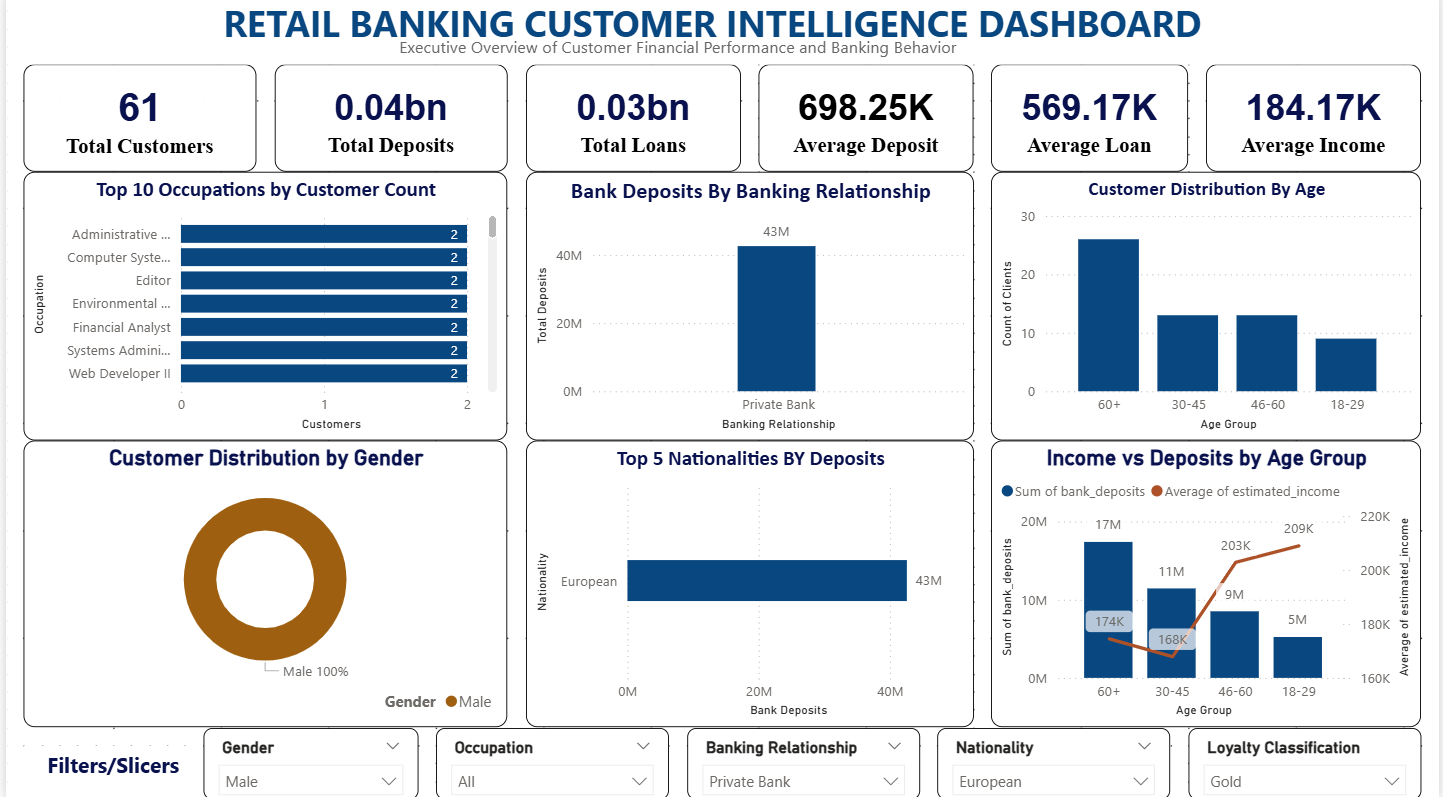

The page's visual inventory and layout, read from the dashboard file:
{"tool":"powerbi","page":{"name":"Executive Dashboard","canvas":[1280,720],"ordinal":0},"visuals":[{"type":"card","fields":{"Values":["clean_banking_data.Total Customers"]},"box":[16,64,208,96],"z":0},{"type":"card","fields":{"Values":["clean_banking_data.Average Loan"]},"box":[880,64,176,96],"z":1},{"type":"card","fields":{"Values":["clean_banking_data.Average Deposit"]},"box":[672,64,192,96],"z":2},{"type":"card","fields":{"Values":["clean_banking_data.Total Deposits"]},"box":[240,64,208,96],"z":3},{"type":"card","fields":{"Values":["clean_banking_data.Average Income"]},"box":[1072,64,192,96],"z":4},{"type":"card","fields":{"Values":["clean_banking_data.Total Loans"]},"box":[464,64,192,96],"z":5},{"type":"clusteredBarChart","title":"Top 10 Occupations by Customer Count","fields":{"Category":["clean_banking_data.occupation"],"Y":["CountNonNull(clean_banking_data.client_id)"]},"box":[16,160,432,240],"z":6},{"type":"clusteredColumnChart","title":"Bank Deposits By Banking Relationship","fields":{"Category":["clean_banking_data.banking_relationship"],"Y":["Sum(clean_banking_data.bank_deposits)"]},"box":[464,160,400,240],"z":7},{"type":"donutChart","title":"Customer Distribution by Gender","fields":{"Category":["clean_banking_data.gender"],"Y":["CountNonNull(clean_banking_data.client_id)"]},"box":[16,400,432,256],"z":8},{"type":"clusteredBarChart","title":"Top 5 Nationalities BY Deposits","fields":{"Category":["clean_banking_data.nationality"],"Y":["Sum(clean_banking_data.bank_deposits)"]},"box":[464,400,400,256],"z":9},{"type":"columnChart","title":"Customer Distribution By Age","fields":{"Category":["clean_banking_data.Age Group"],"Y":["CountNonNull(clean_banking_data.client_id)"]},"box":[880,160,384,240],"z":10},{"type":"lineClusteredColumnComboChart","title":"Income vs Deposits by Age Group","fields":{"Category":["clean_banking_data.Age Group"],"Y":["Sum(clean_banking_data.bank_deposits)"],"Y2":["Avg(clean_banking_data.estimated_income)"]},"box":[880,400,384,256],"z":11},{"type":"textbox","box":[16,0,1248,64],"z":12},{"type":"slicer","fields":{"Values":["clean_banking_data.gender"]},"box":[176,656,192,64],"z":13},{"type":"slicer","fields":{"Values":["clean_banking_data.occupation"]},"box":[384,656,208,64],"z":14},{"type":"slicer","fields":{"Values":["clean_banking_data.banking_relationship"]},"box":[608,656,208,64],"z":15},{"type":"slicer","fields":{"Values":["clean_banking_data.nationality"]},"box":[832,656,208,64],"z":16},{"type":"slicer","fields":{"Values":["clean_banking_data.loyalty_classification"]},"box":[1056,656,208,64],"z":17},{"type":"textbox","box":[16,672,160,48],"z":18},{"type":"textbox","box":[240,32,720,32],"z":19}]}

Visuals, with their boxes in screenshot pixels (x1, y1, x2, y2), scaled from the page's 1280x720 canvas onto the 1443x797 screenshot:
card - clean_banking_data.Total Customers: (18,71,253,177)
card - clean_banking_data.Average Loan: (992,71,1190,177)
card - clean_banking_data.Average Deposit: (758,71,974,177)
card - clean_banking_data.Total Deposits: (271,71,505,177)
card - clean_banking_data.Average Income: (1209,71,1425,177)
card - clean_banking_data.Total Loans: (523,71,740,177)
"Top 10 Occupations by Customer Count" clusteredBarChart: (18,177,505,443)
"Bank Deposits By Banking Relationship" clusteredColumnChart: (523,177,974,443)
"Customer Distribution by Gender" donutChart: (18,443,505,726)
"Top 5 Nationalities BY Deposits" clusteredBarChart: (523,443,974,726)
"Customer Distribution By Age" columnChart: (992,177,1425,443)
"Income vs Deposits by Age Group" lineClusteredColumnComboChart: (992,443,1425,726)
textbox: (18,0,1425,71)
slicer - clean_banking_data.gender: (198,726,415,796)
slicer - clean_banking_data.occupation: (433,726,667,796)
slicer - clean_banking_data.banking_relationship: (685,726,920,796)
slicer - clean_banking_data.nationality: (938,726,1172,796)
slicer - clean_banking_data.loyalty_classification: (1190,726,1425,796)
textbox: (18,744,198,796)
textbox: (271,35,1082,71)
